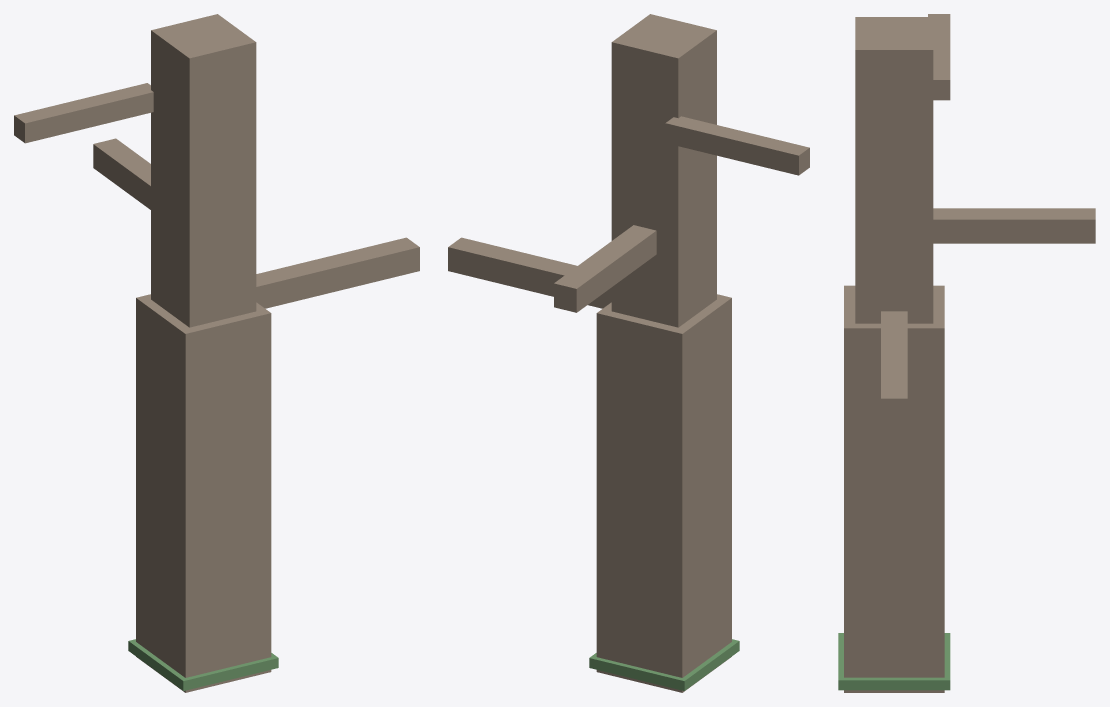
The model's file is prop_deadtreewater.glb.
3 renders of one model, left to right at view 1: azimuth 30°, elevation 25°; view 2: azimuth 150°, elevation 25°; view 3: azimuth 270°, elevation 25°, orthographic.
Parts seen in each view (by area): view 1: Prop_DeadTreeWater; view 2: Prop_DeadTreeWater; view 3: Prop_DeadTreeWater.
Part boxes in pixels (x1=…): Prop_DeadTreeWater: x1=14, y1=14, x2=419, y2=692; Prop_DeadTreeWater: x1=448, y1=14, x2=809, y2=692; Prop_DeadTreeWater: x1=838, y1=14, x2=1095, y2=692.
Size of the model in its own units: 1.95 by 3.15 by 1.15.
